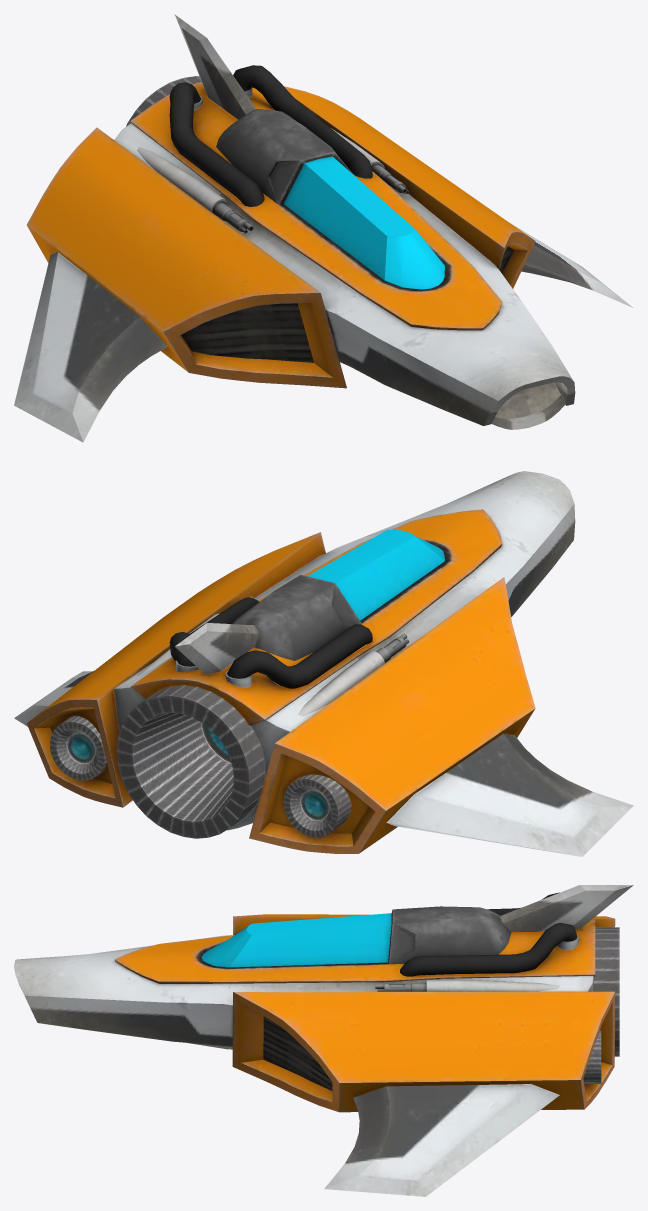
Rendered from hammer.glb.
The picture shows the model from 3 angles, top to bottom: view 1: azimuth 30°, elevation 25°; view 2: azimuth 150°, elevation 25°; view 3: azimuth 270°, elevation 25°; orthographic projection. The views are drawn at different scales.
Visible parts, largest first — view 1: Nave1_High_03 - Default Slot #2_0; view 2: Nave1_High_03 - Default Slot #2_0; view 3: Nave1_High_03 - Default Slot #2_0.
Boxes of the visible parts, <box> form: Nave1_High_03 - Default Slot #2_0: <box>14,15,632,442</box>; Nave1_High_03 - Default Slot #2_0: <box>14,471,633,856</box>; Nave1_High_03 - Default Slot #2_0: <box>14,885,633,1196</box>.
Bounding box in the file's own units: 4.01 × 1.56 × 4.5.
Materials: 3 (3 with a texture image).
